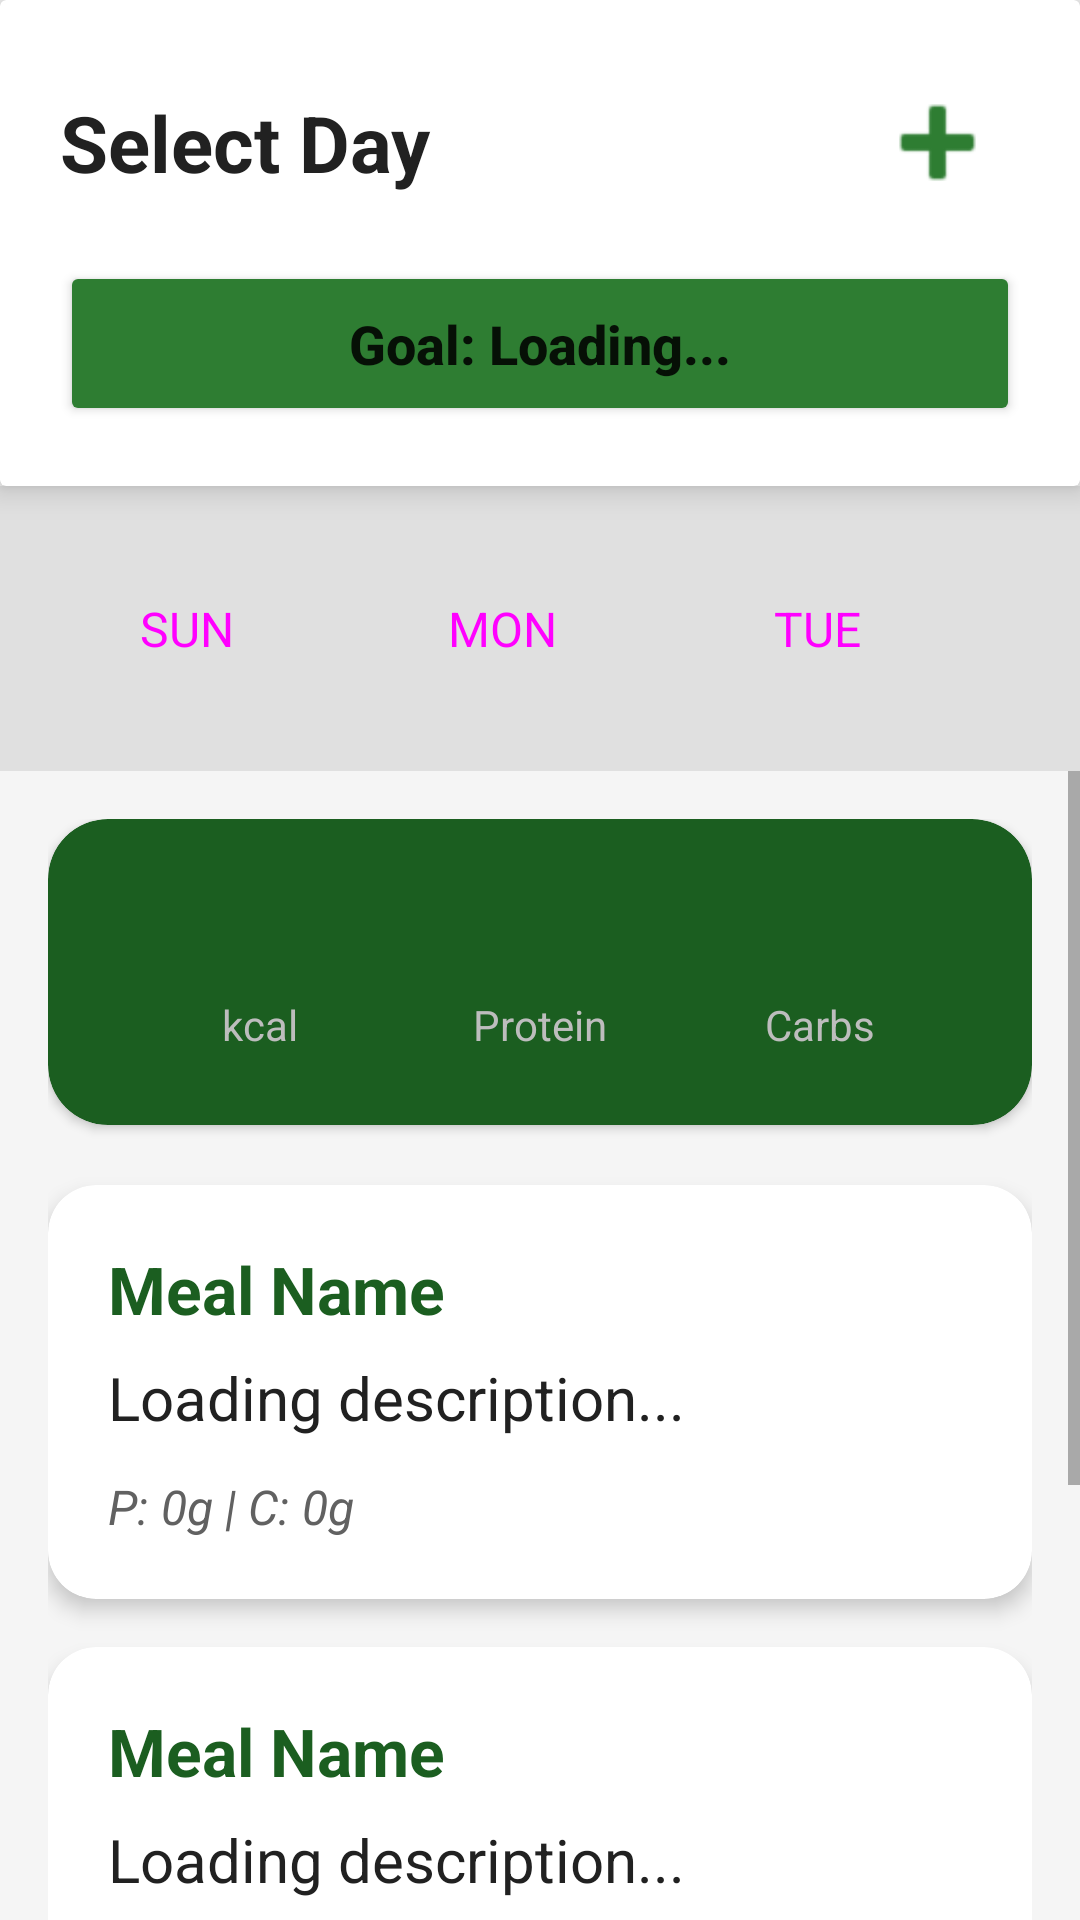

Icons on this 1080x1920 Android screen, each with the point to tap as (x=x, y=y):
add: (x=937, y=142)
